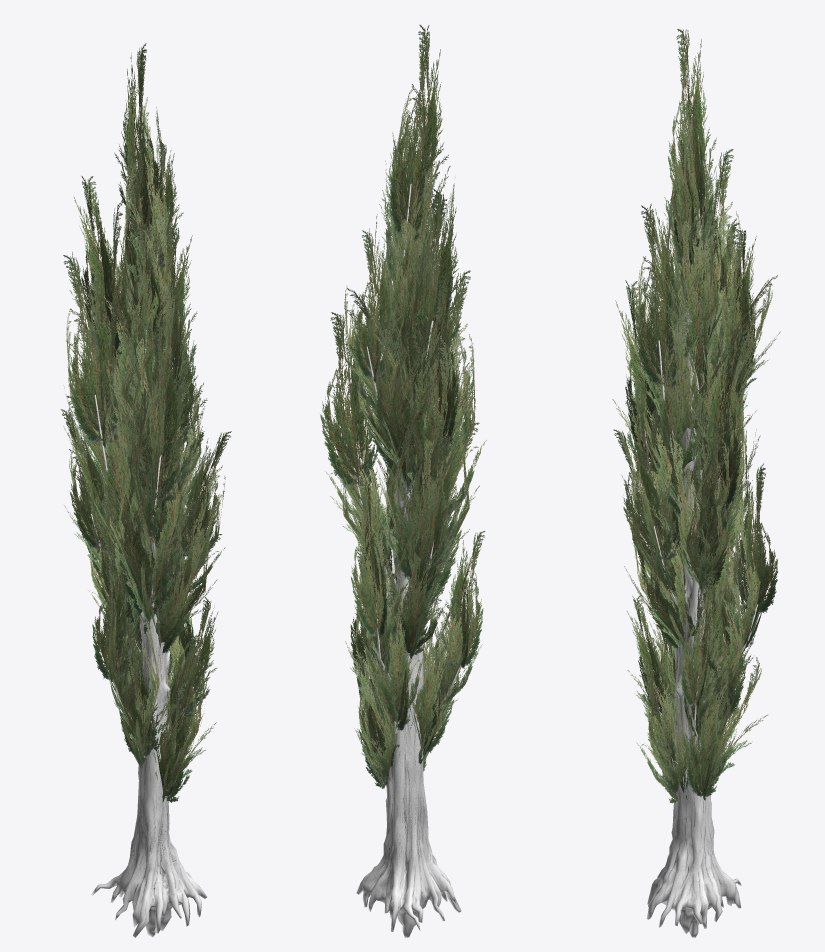
Rendered from CypressTree00.fbx.
3 views of the same model, side by side, from view 1: azimuth 30°, elevation 25°; view 2: azimuth 150°, elevation 25°; view 3: azimuth 270°, elevation 25° (orthographic).
Visible parts, largest first — view 1: cypresstree00Trunk, CypressBranch_A022, CypressBranch_A024, CypressBranch_A012, CypressBranch_A020, CypressBranch_A018, CypressBranch_A026, CypressBranch_A006, CypressBranch_B080, CypressBranch_B077, CypressBranch_A028, CypressBranch_A002 (+36 smaller); view 2: cypresstree00Trunk, CypressBranch_A012, CypressBranch_A030, CypressBranch_A020, CypressBranch_A022, CypressBranch_A016, CypressBranch_A008, CypressBranch_A006, CypressBranch_A026, CypressBranch_B024, CypressBranch_B074, CypressBranch_B066 (+39 smaller); view 3: cypresstree00Trunk, CypressBranch_A018, CypressBranch_A030, CypressBranch_A012, CypressBranch_B038, CypressBranch_A028, CypressBranch_A024, CypressBranch_A008, CypressBranch_B063, CypressBranch_A004, CypressBranch_A016, CypressBranch_A002 (+44 smaller).
Boxes of the visible parts, x1=… form: cypresstree00Trunk: x1=91, y1=544, x2=206, y2=937; CypressBranch_A022: x1=63, y1=252, x2=123, y2=447; CypressBranch_A024: x1=130, y1=324, x2=192, y2=503; CypressBranch_A012: x1=114, y1=43, x2=163, y2=248; CypressBranch_A020: x1=74, y1=176, x2=126, y2=360; CypressBranch_A018: x1=144, y1=226, x2=197, y2=394; CypressBranch_A026: x1=61, y1=408, x2=116, y2=553; CypressBranch_A006: x1=92, y1=556, x2=136, y2=682; CypressBranch_B080: x1=107, y1=444, x2=169, y2=616; CypressBranch_B077: x1=85, y1=365, x2=143, y2=544; CypressBranch_A028: x1=175, y1=431, x2=231, y2=557; CypressBranch_A002: x1=170, y1=597, x2=218, y2=718; cypresstree00Trunk: x1=356, y1=485, x2=461, y2=937; CypressBranch_A012: x1=389, y1=24, x2=448, y2=242; CypressBranch_A030: x1=320, y1=312, x2=381, y2=487; CypressBranch_A020: x1=401, y1=189, x2=466, y2=369; CypressBranch_A022: x1=414, y1=275, x2=464, y2=450; CypressBranch_A016: x1=353, y1=228, x2=402, y2=383; CypressBranch_A008: x1=351, y1=483, x2=393, y2=637; CypressBranch_A006: x1=440, y1=531, x2=485, y2=668; CypressBranch_A026: x1=412, y1=435, x2=459, y2=566; CypressBranch_B024: x1=357, y1=570, x2=425, y2=724; CypressBranch_B074: x1=405, y1=336, x2=472, y2=489; CypressBranch_B066: x1=377, y1=310, x2=431, y2=484; cypresstree00Trunk: x1=646, y1=313, x2=741, y2=937; CypressBranch_A018: x1=635, y1=203, x2=690, y2=391; CypressBranch_A030: x1=695, y1=330, x2=749, y2=510; CypressBranch_A012: x1=667, y1=29, x2=719, y2=239; CypressBranch_B038: x1=653, y1=175, x2=729, y2=388; CypressBranch_A028: x1=613, y1=429, x2=676, y2=561; CypressBranch_A024: x1=615, y1=280, x2=664, y2=473; CypressBranch_A008: x1=729, y1=463, x2=778, y2=617; CypressBranch_B063: x1=645, y1=305, x2=711, y2=490; CypressBranch_A004: x1=680, y1=573, x2=726, y2=707; CypressBranch_A016: x1=722, y1=230, x2=758, y2=370; CypressBranch_A002: x1=627, y1=595, x2=668, y2=716.
Bounding box in the file's own units: 530 × 2311 × 584.
